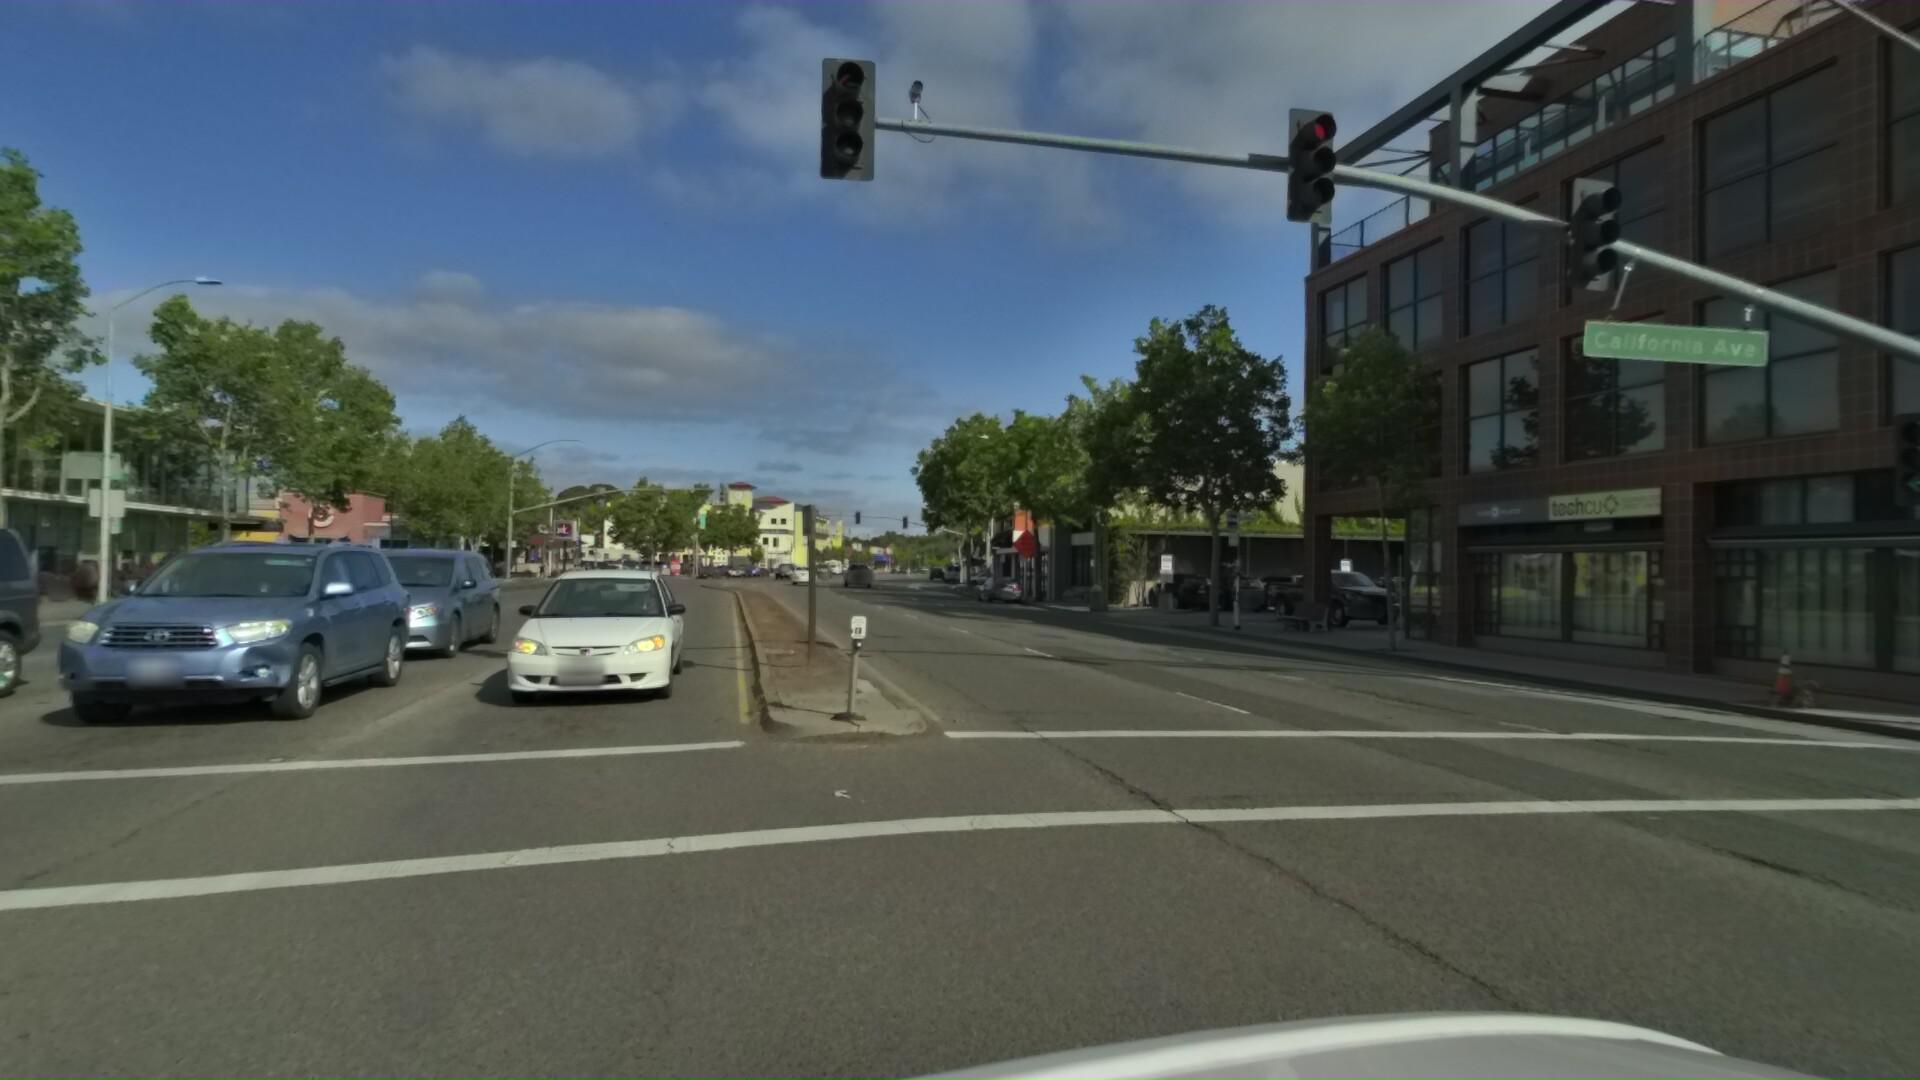car: (0, 512, 440, 752), (454, 560, 694, 723), (258, 535, 510, 673), (0, 479, 32, 796), (1265, 562, 1404, 624), (1189, 564, 1273, 609), (1145, 567, 1224, 607), (978, 566, 1029, 599), (847, 560, 874, 585), (796, 563, 823, 585)
